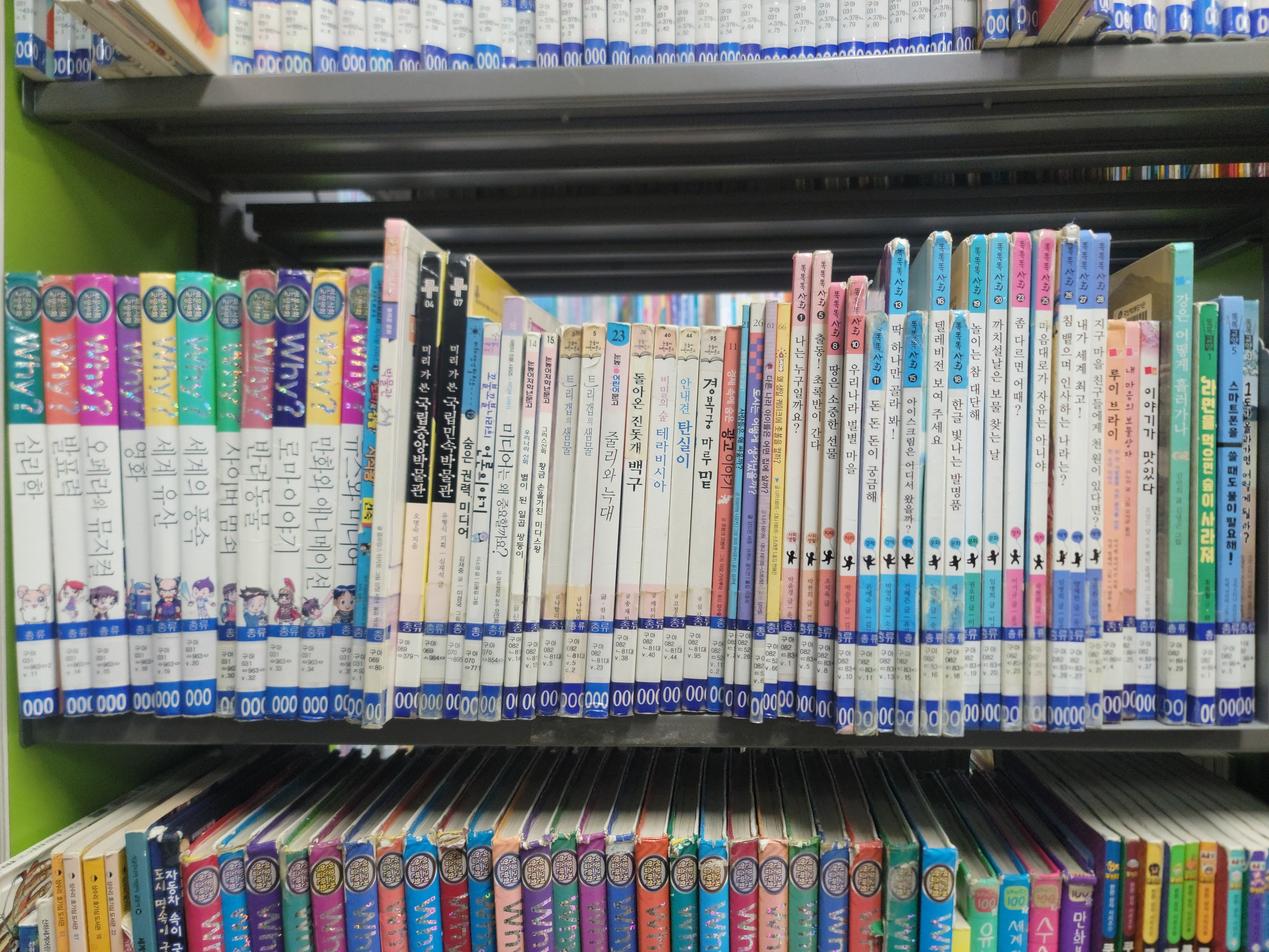book-spine: (390, 252, 444, 718), (416, 253, 470, 719), (2, 273, 58, 717), (38, 276, 94, 719), (74, 275, 129, 718), (296, 272, 346, 721), (363, 222, 405, 728), (264, 270, 311, 721), (325, 272, 370, 722), (478, 299, 525, 718), (235, 272, 278, 718), (140, 274, 183, 717), (112, 276, 155, 715), (559, 324, 606, 720), (583, 323, 630, 717), (608, 323, 654, 721), (175, 273, 216, 719), (536, 325, 582, 718), (633, 325, 678, 721), (346, 261, 384, 726), (441, 315, 484, 721), (681, 327, 725, 721), (459, 321, 502, 722), (657, 327, 700, 721), (794, 252, 830, 722), (874, 234, 908, 730), (918, 229, 951, 738), (776, 252, 811, 722), (499, 332, 541, 722), (1024, 231, 1056, 733), (517, 333, 558, 720), (1000, 231, 1032, 723), (852, 305, 888, 736), (1046, 225, 1077, 724), (833, 281, 866, 734), (980, 228, 1010, 725), (813, 279, 846, 729), (703, 321, 740, 721), (894, 306, 927, 736), (1065, 221, 1093, 724), (1166, 241, 1194, 725), (733, 298, 765, 719), (961, 241, 988, 731), (748, 298, 778, 725), (720, 310, 750, 721), (215, 280, 243, 718), (762, 299, 791, 721), (1083, 230, 1107, 729), (941, 307, 969, 732), (1216, 296, 1243, 726), (1195, 304, 1219, 727), (1135, 322, 1160, 724), (1101, 315, 1124, 725), (1239, 298, 1260, 725), (1120, 319, 1140, 722)
